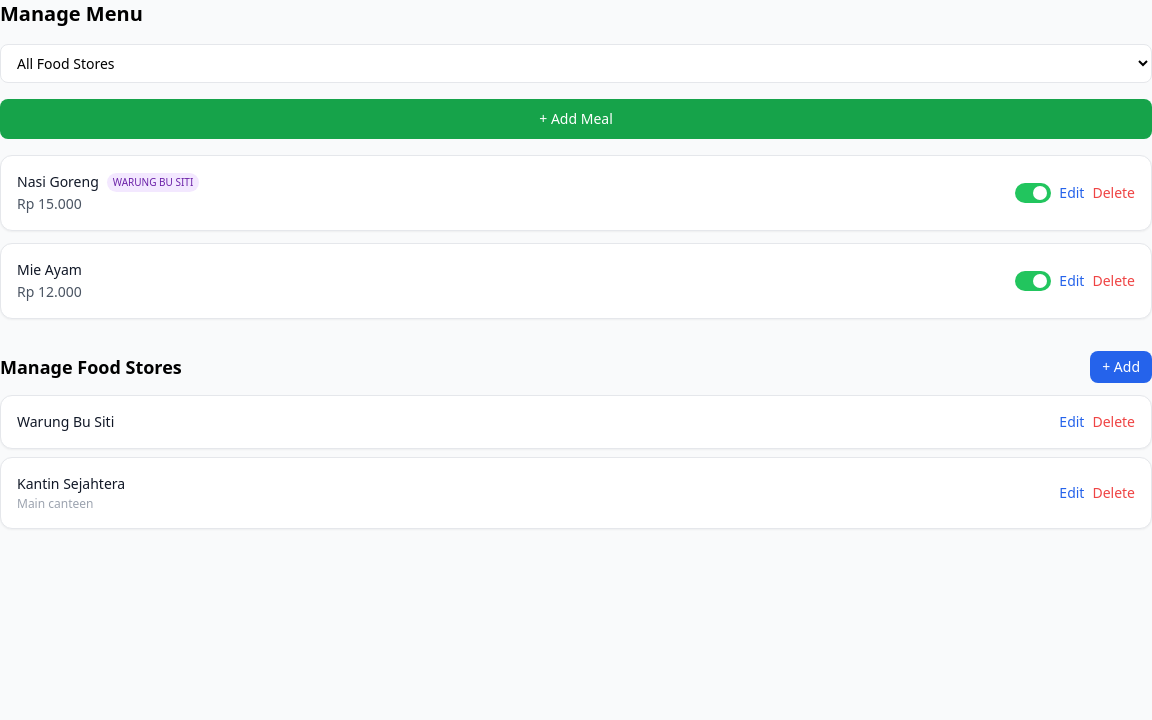
Test: MenuPage › offers None (own-selling) option in the meal category select
Click the button "+ Add Meal" at point(576, 119), box [0, 99, 1151, 139]
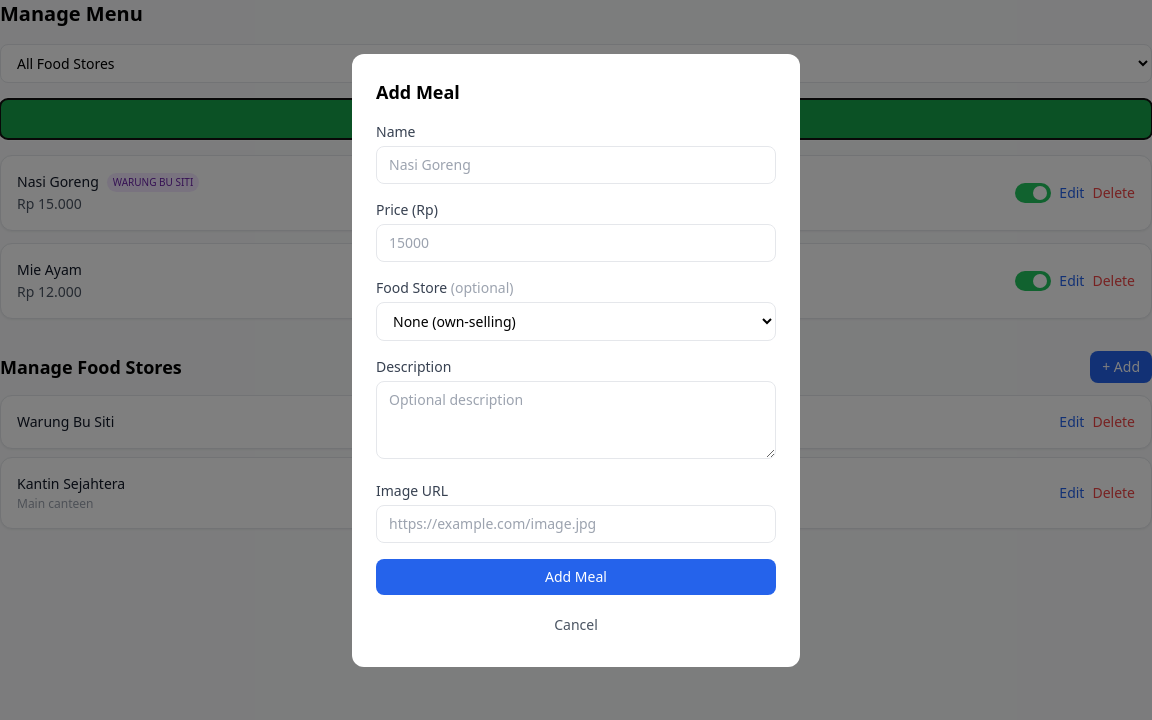
Now the number of dropdowns is 2, box [0, 44, 1151, 83]; [376, 302, 776, 340]
